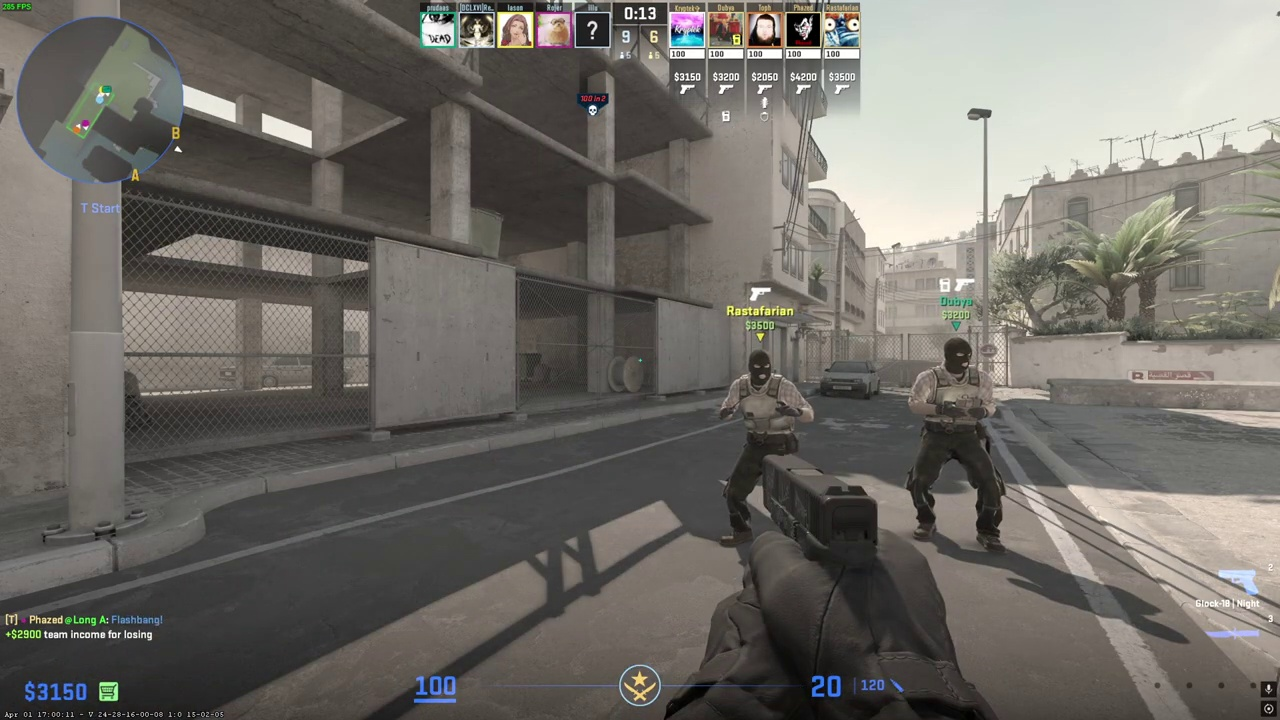Terrorist: (911, 337, 1006, 554), (723, 349, 806, 543)
